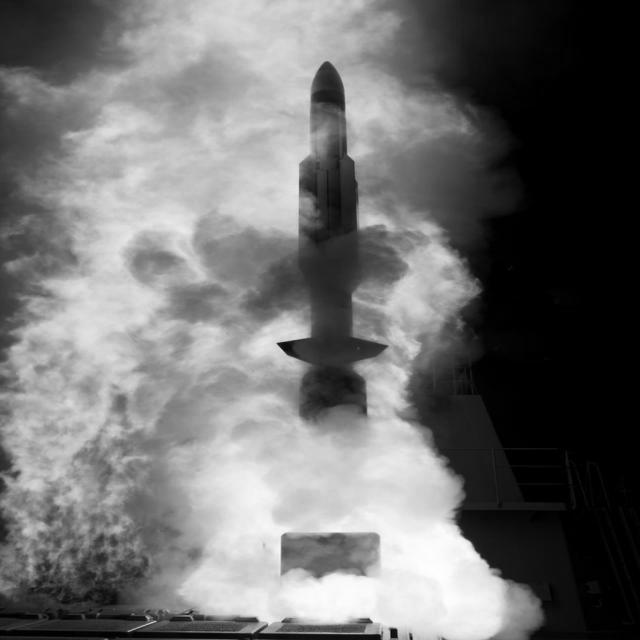missile: (294, 57, 369, 426)
